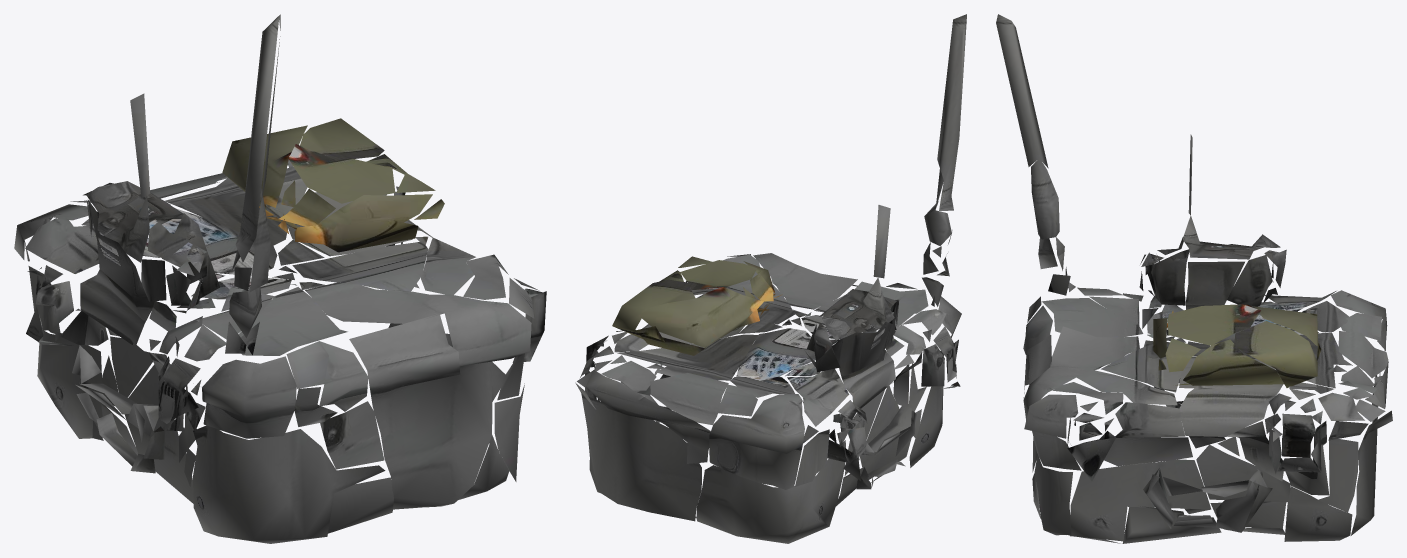
File: prop_expedition_radio_station_LOD2.glb
3 views of the same model, side by side, from view 1: azimuth 30°, elevation 25°; view 2: azimuth 150°, elevation 25°; view 3: azimuth 270°, elevation 25° (orthographic). The views are drawn at different scales.
Parts seen in each view (by area): view 1: tripo_node_0a4e3f66-2cd6-4ce0-ba71-ba6d2677f7e4; view 2: tripo_node_0a4e3f66-2cd6-4ce0-ba71-ba6d2677f7e4; view 3: tripo_node_0a4e3f66-2cd6-4ce0-ba71-ba6d2677f7e4.
Part boxes in pixels (x1,y1,x2,y2): tripo_node_0a4e3f66-2cd6-4ce0-ba71-ba6d2677f7e4: (14, 14, 546, 543); tripo_node_0a4e3f66-2cd6-4ce0-ba71-ba6d2677f7e4: (575, 14, 966, 543); tripo_node_0a4e3f66-2cd6-4ce0-ba71-ba6d2677f7e4: (996, 14, 1392, 543).
Bounding box in the file's own units: 0.7029 × 0.9963 × 0.8293.
1 material, 1 textured.
